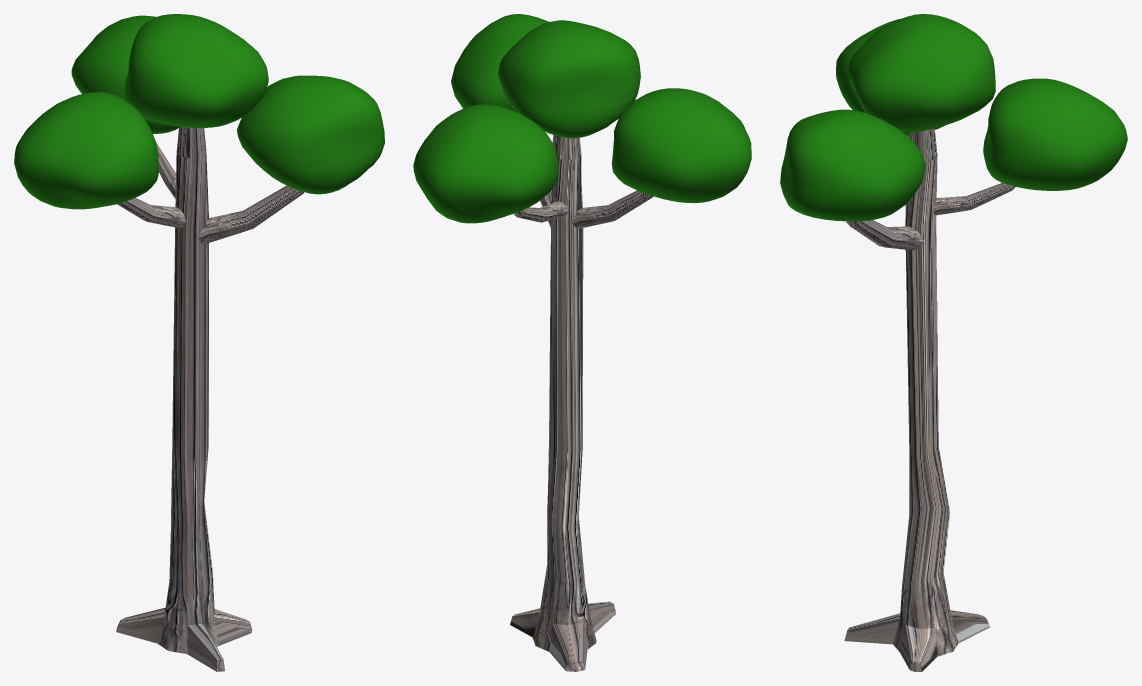
The model's file is golf_tree_4.glb.
3 views of the same model, side by side, from view 1: azimuth 30°, elevation 25°; view 2: azimuth 150°, elevation 25°; view 3: azimuth 270°, elevation 25° (orthographic).
Visible parts, largest first — view 1: leaves_light2, tree_bodylight2; view 2: leaves_light2, tree_bodylight2; view 3: leaves_light2, tree_bodylight2.
Boxes of the visible parts, left/top/right/bottom form: leaves_light2: left=14, top=14, right=384, bottom=209; tree_bodylight2: left=116, top=126, right=304, bottom=671; leaves_light2: left=413, top=14, right=751, bottom=223; tree_bodylight2: left=510, top=135, right=653, bottom=671; leaves_light2: left=780, top=14, right=1127, bottom=221; tree_bodylight2: left=844, top=128, right=1015, bottom=671.
Size of the model in its own units: 2.48 by 4.58 by 2.34.
Materials: 2 (1 with a texture image).
